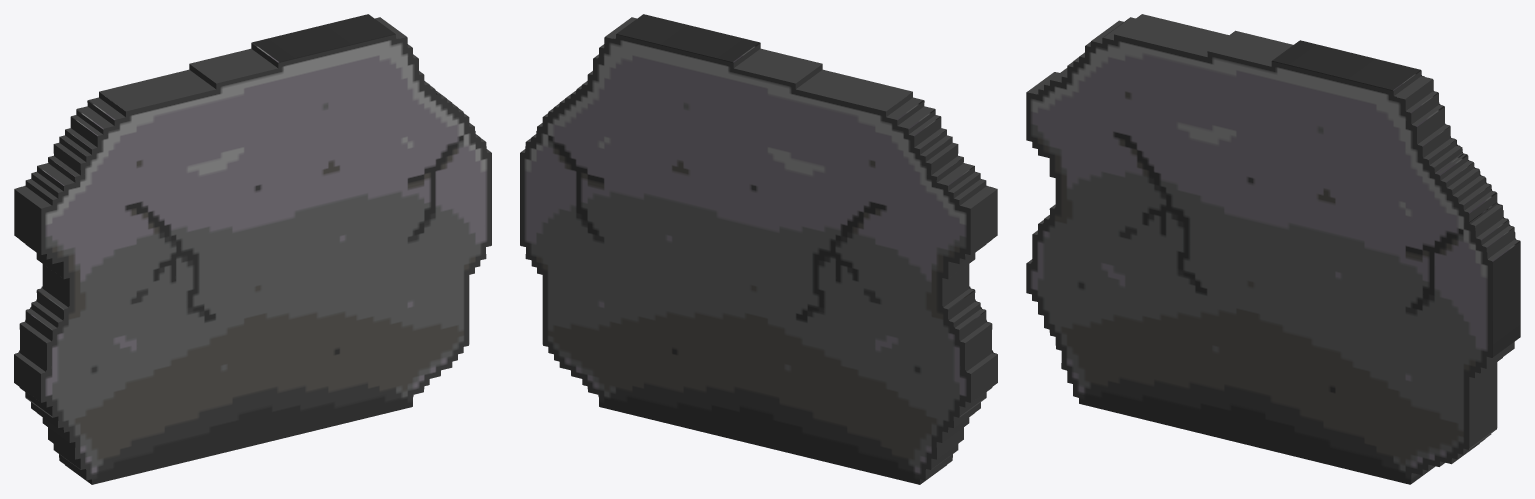
Rendered from Big Rock.fbx.
The picture shows the model from 3 angles, left to right: view 1: azimuth 30°, elevation 25°; view 2: azimuth 150°, elevation 25°; view 3: azimuth 330°, elevation 25°; orthographic projection. The views are drawn at different scales.
Parts seen in each view (by area): view 1: objec-5_3000px.004; view 2: objec-5_3000px.004; view 3: objec-5_3000px.004.
Part boxes in pixels (x1=…): objec-5_3000px.004: x1=14, y1=14, x2=491, y2=484; objec-5_3000px.004: x1=520, y1=14, x2=997, y2=484; objec-5_3000px.004: x1=1026, y1=14, x2=1520, y2=484.
Bounding box in the file's own units: 26.63 × 21.3 × 2.77.
